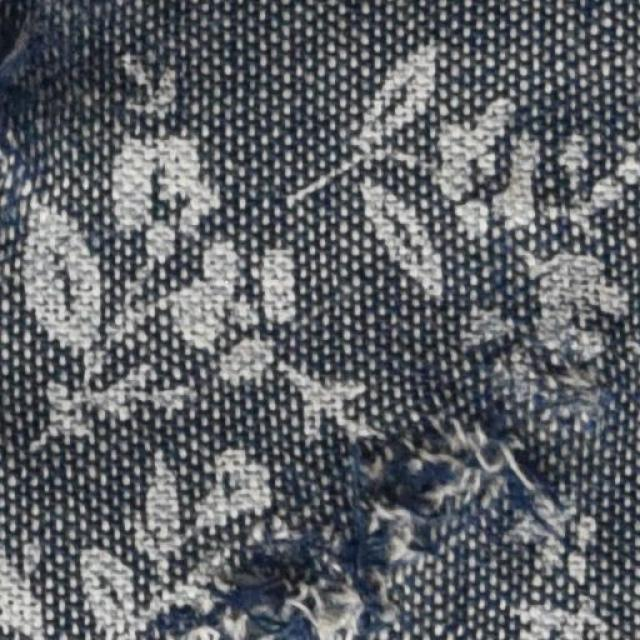Snag: (178, 420, 548, 638), (0, 1, 71, 201), (548, 355, 619, 430)
